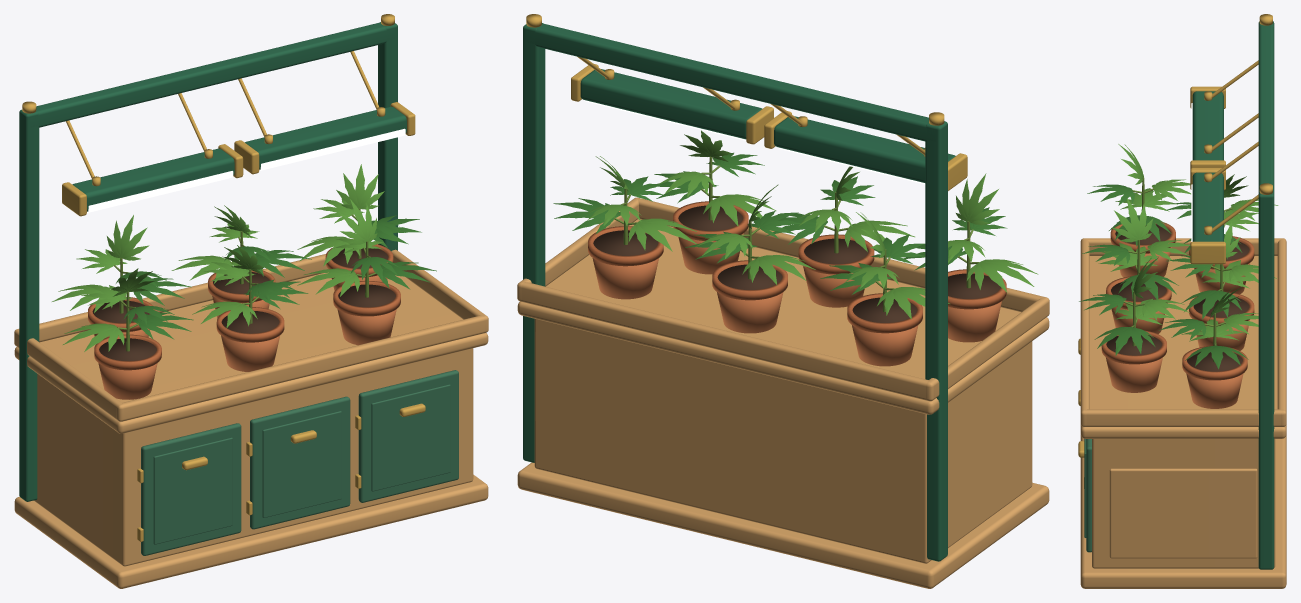
The model's file is grow_bench_tier1.glb.
3 renders of one model, left to right at view 1: azimuth 30°, elevation 25°; view 2: azimuth 150°, elevation 25°; view 3: azimuth 270°, elevation 25°, orthographic. The views are drawn at different scales.
Visible parts, largest first — view 1: Body, Top, Plinth, Beam, Post-1, Lip1, DrawerInset2, DrawerInset1, DrawerInset0, Drawer1, Drawer2, Drawer0 (+31 smaller); view 2: Body, Top, Plinth, Beam, Post-1, Lip0, Post1, LightBar0.43, LightBar-0.43, Lip1, Lip3, P0Pot (+31 smaller); view 3: EndPanel, Top, Body, Plinth, Post1, Lip2, Beam, LightBar-0.43, LightBar0.43, Lip0, Lip1, P2Pot (+45 smaller).
Part boxes in pixels (x1,y1,x2,y2): Body: [34, 348, 473, 566]; Top: [14, 272, 488, 433]; Plinth: [14, 474, 488, 588]; Beam: [30, 22, 394, 127]; Post-1: [19, 109, 39, 501]; Lip1: [116, 315, 488, 420]; DrawerInset2: [371, 384, 450, 491]; DrawerInset1: [262, 411, 341, 517]; DrawerInset0: [153, 437, 232, 544]; Drawer1: [250, 396, 350, 529]; Drawer2: [358, 370, 458, 502]; Drawer0: [141, 423, 241, 555]; Body: [534, 319, 1032, 563]; Top: [517, 219, 1049, 414]; Plinth: [517, 462, 1049, 588]; Beam: [526, 23, 935, 141]; Post-1: [925, 121, 947, 561]; Lip0: [517, 282, 934, 400]; Post1: [523, 23, 545, 462]; LightBar0.43: [580, 69, 762, 139]; LightBar-0.43: [774, 116, 955, 182]; Lip1: [637, 198, 1049, 315]; Lip3: [926, 297, 1049, 401]; P0Pot: [852, 325, 918, 366]; EndPanel: [1109, 468, 1257, 558]; Top: [1080, 256, 1286, 438]; Body: [1092, 439, 1275, 568]; Plinth: [1080, 435, 1286, 588]; Post1: [1258, 190, 1274, 569]; Lip2: [1080, 409, 1286, 426]; Beam: [1258, 25, 1274, 191]; LightBar-0.43: [1192, 91, 1223, 160]; LightBar0.43: [1192, 172, 1223, 241]; Lip0: [1277, 239, 1286, 426]; Lip1: [1080, 239, 1089, 426]; P2Pot: [1186, 373, 1243, 408].
Size of the model in its own units: 1.96 by 1.98 by 0.93.
